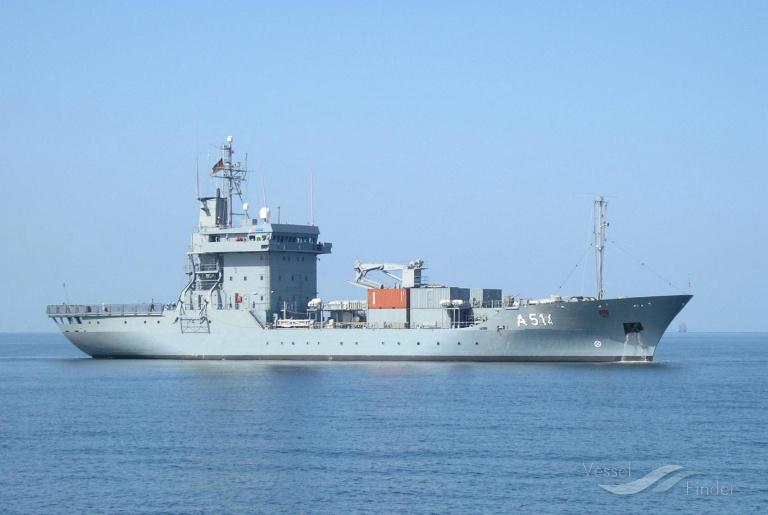OCR: (504, 311, 552, 333)
